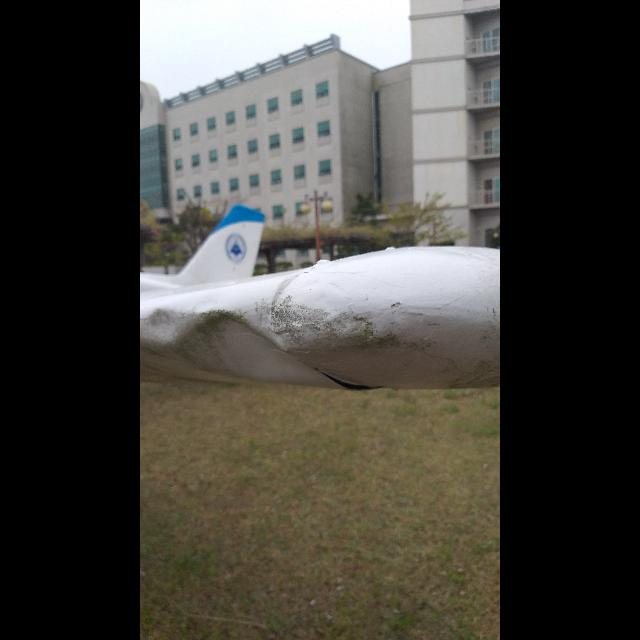dent: (190, 306, 336, 388), (140, 307, 188, 348)
